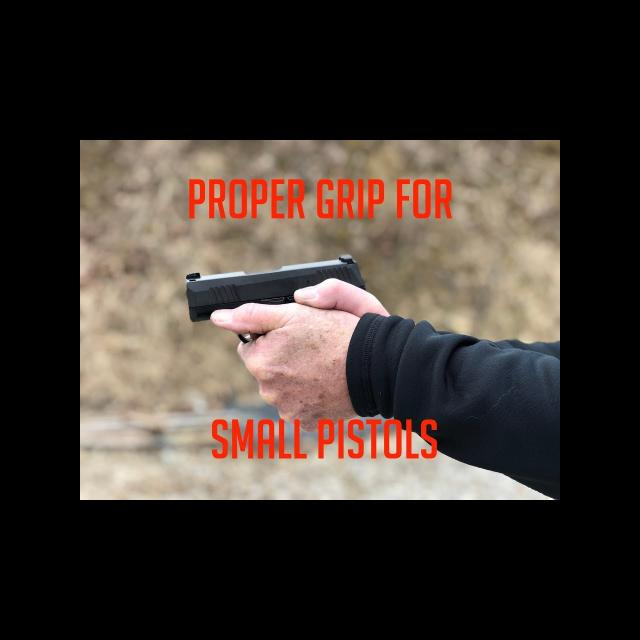handgun: (183, 252, 367, 344)
